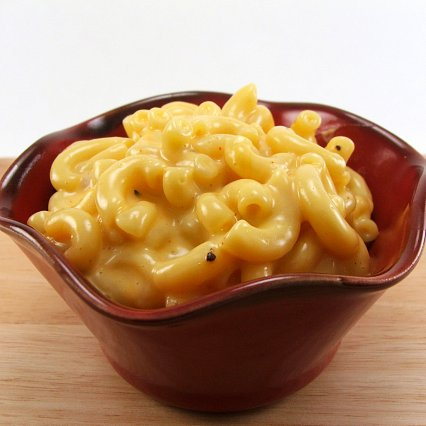macncheese: (38, 83, 378, 313)
